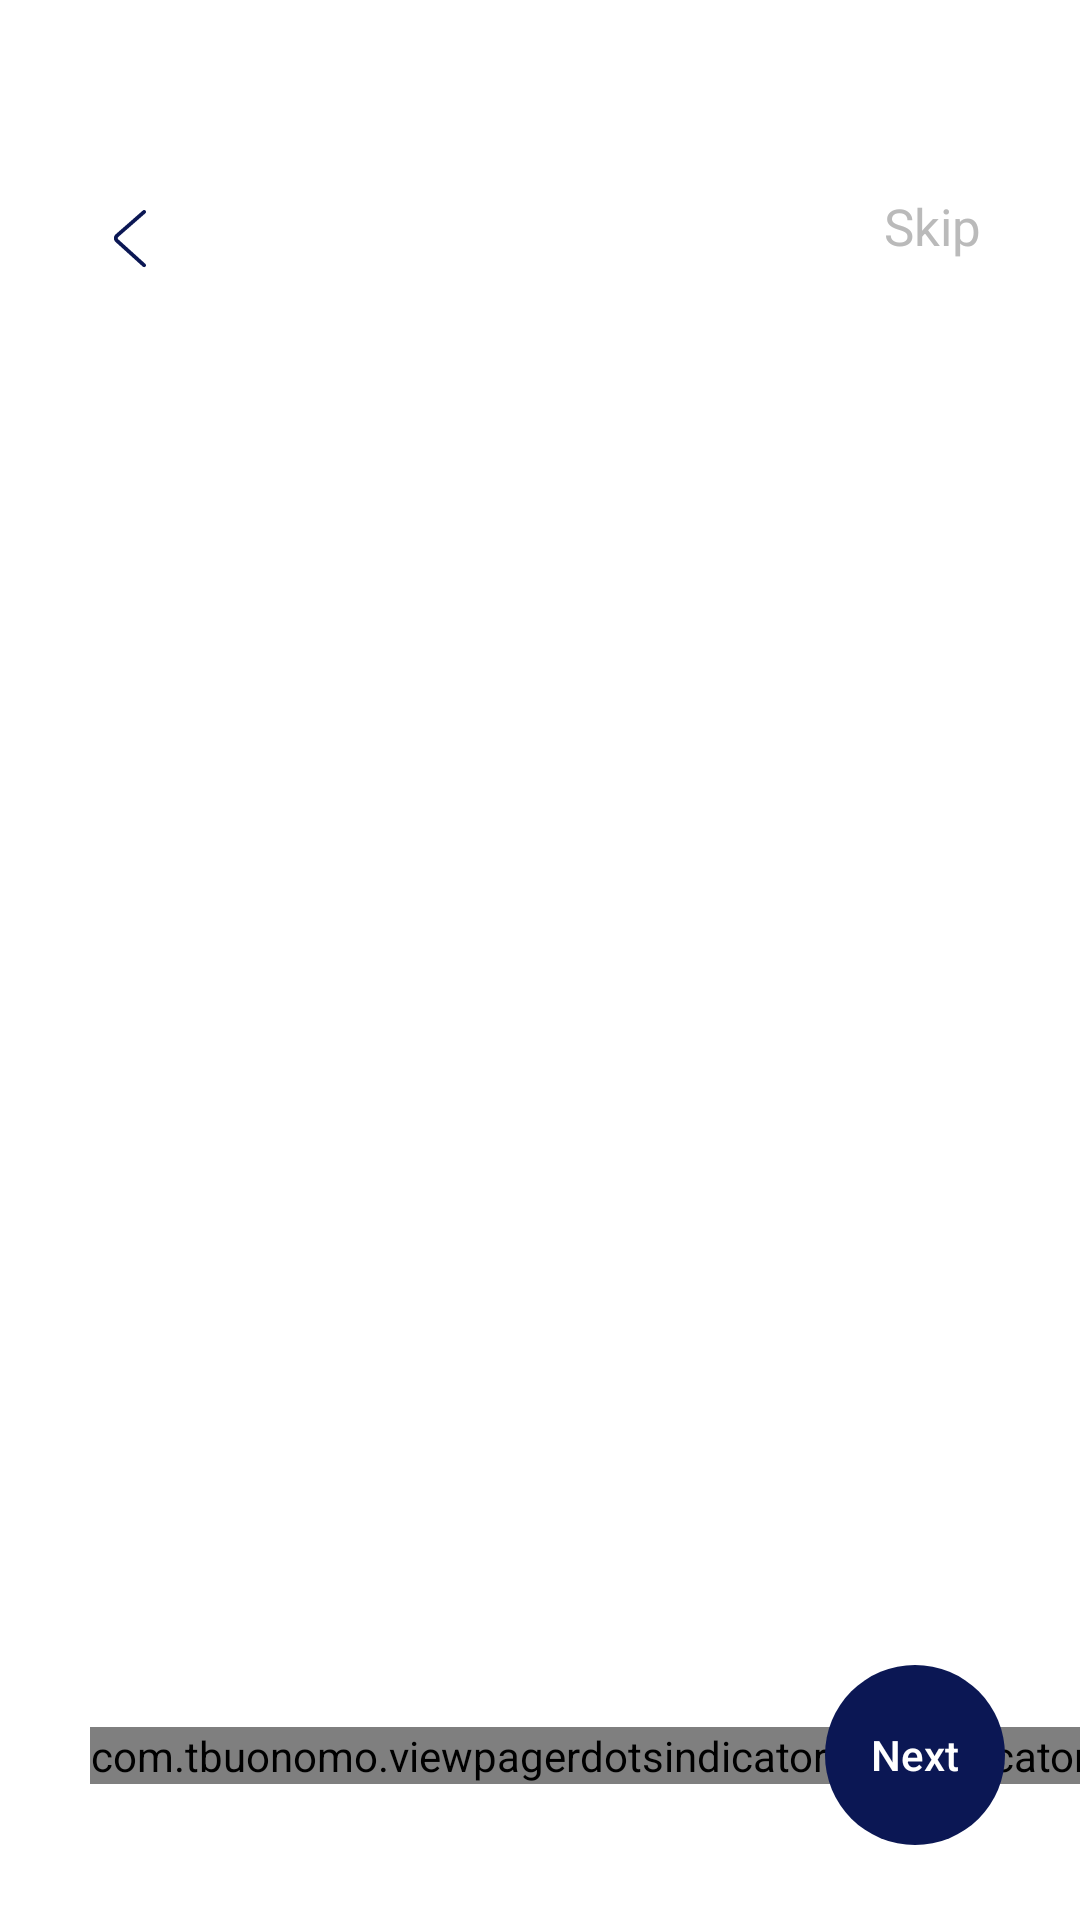

Locate icon controls on the screen. Image size 1080×1920, boxes as (x1, y1, x2, y2).
back: (114, 210, 146, 267)
